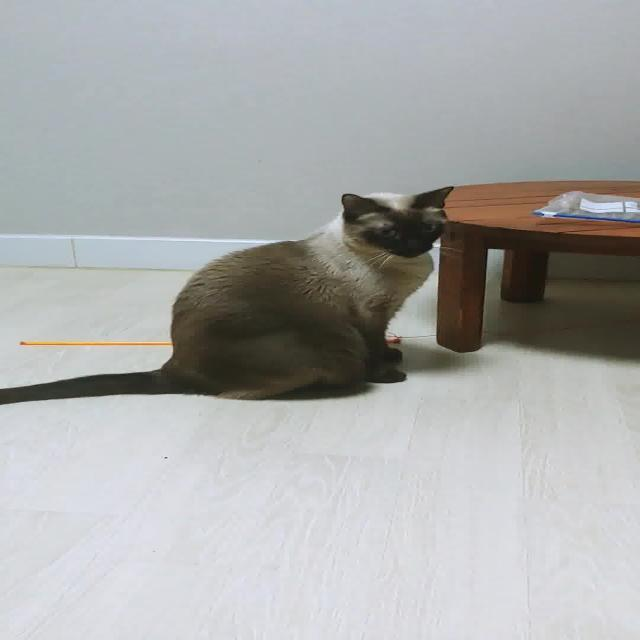cat: (0, 182, 467, 414)
